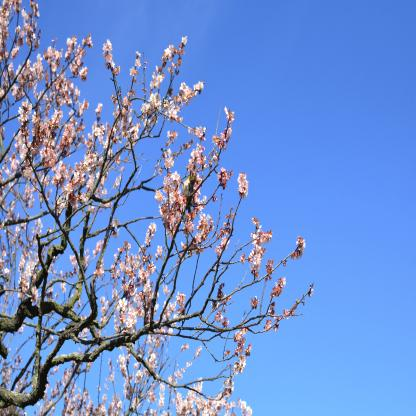Ume: (0, 0, 314, 416)
